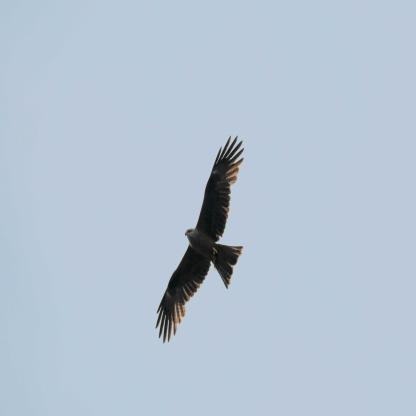bird: (157, 136, 245, 340)
